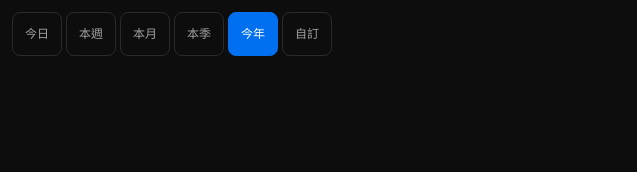
it: ReportDateRangePicker Component › shows custom date inputs when 自訂 is clicked
Click the button "自訂". click: click(307, 34)
box: [282,12,332,56]
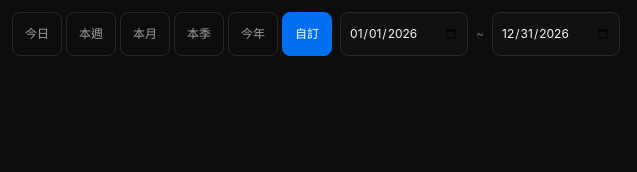
Check: the date field named "報表開始日期" is shown, box [340,12,468,56]
Check: the date field named "報表結束日期" is shown, box [492,12,620,56]
